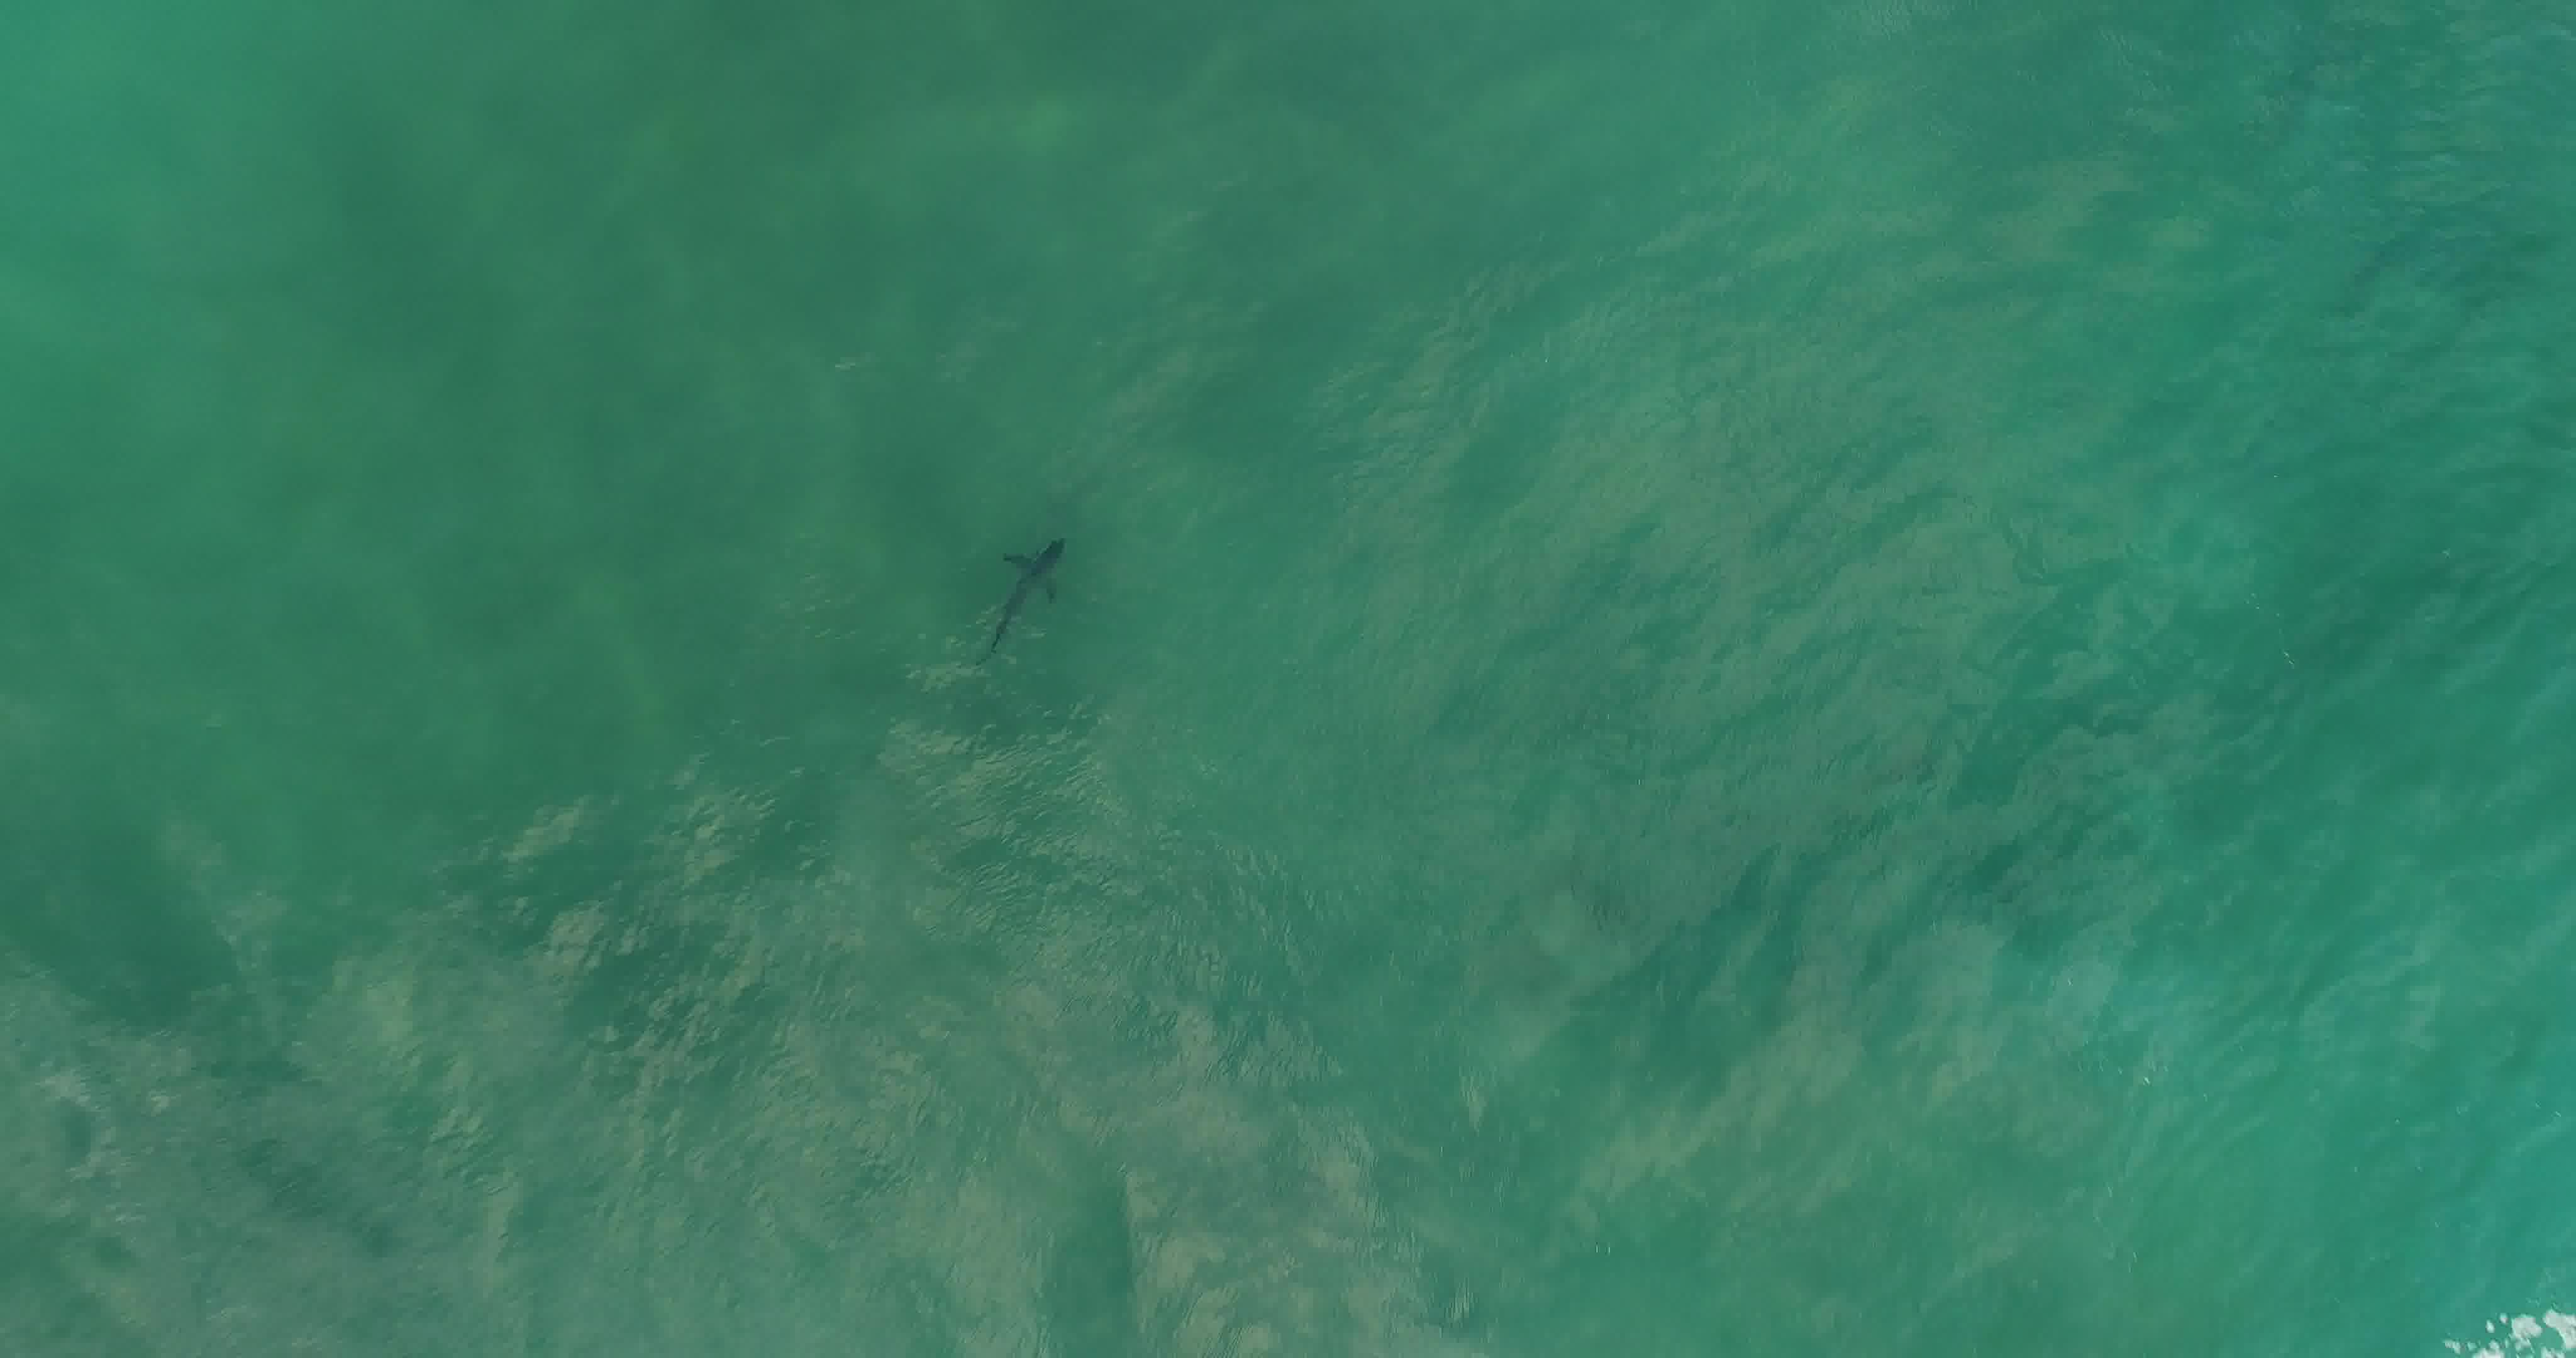shark: (983, 533, 1070, 673)
